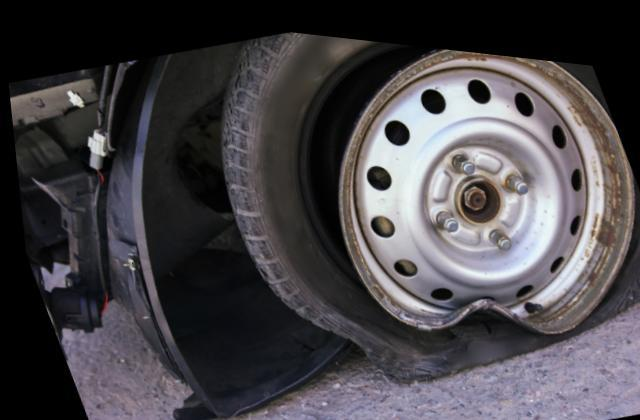no part: (7, 50, 175, 369)
tire flat: (218, 25, 640, 381)
